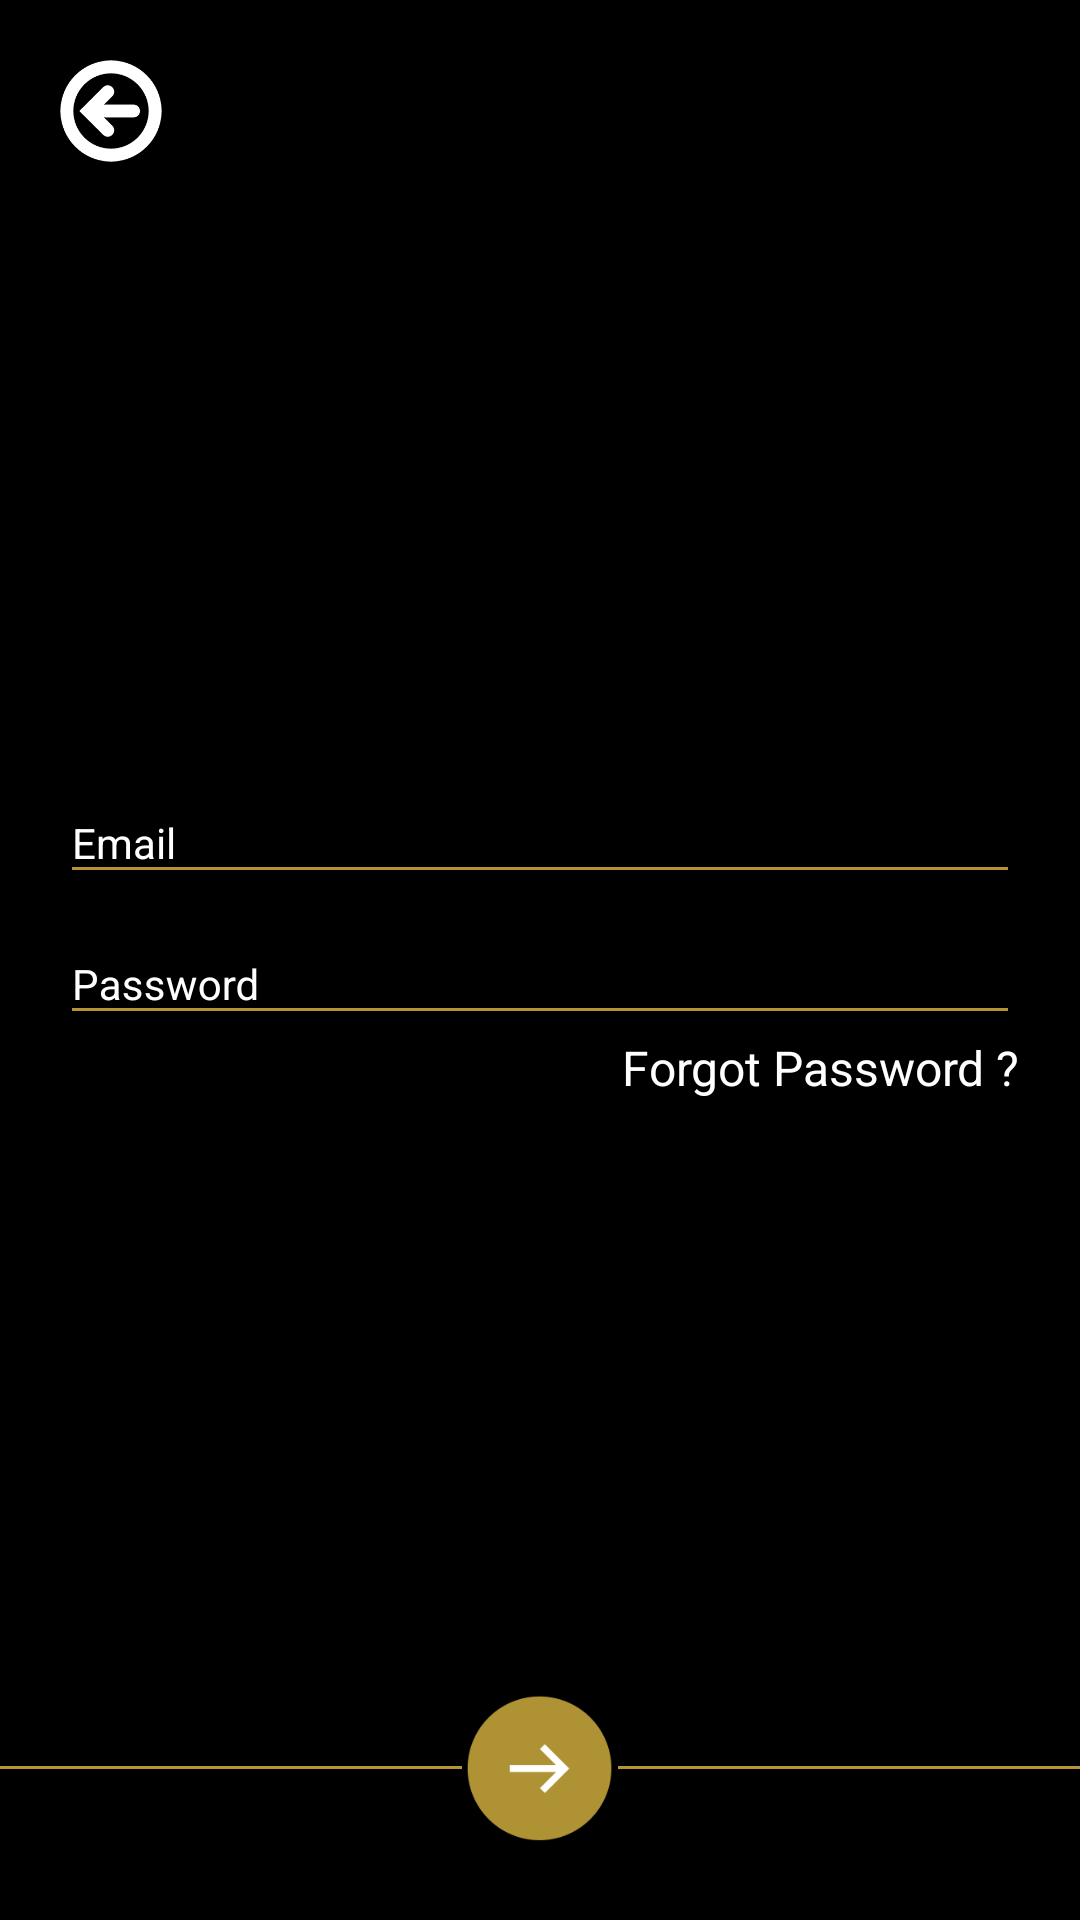

Where icons sit on this 1080x1920 app screen, as (x1, y1, x2, y2):
back: (60, 60, 162, 162)
go nxt: (467, 1696, 612, 1841)
